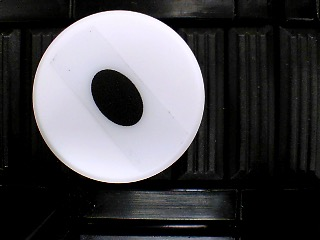BOHOEL: (32, 10, 206, 184)
